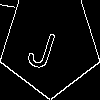J: (25, 19, 61, 71)
